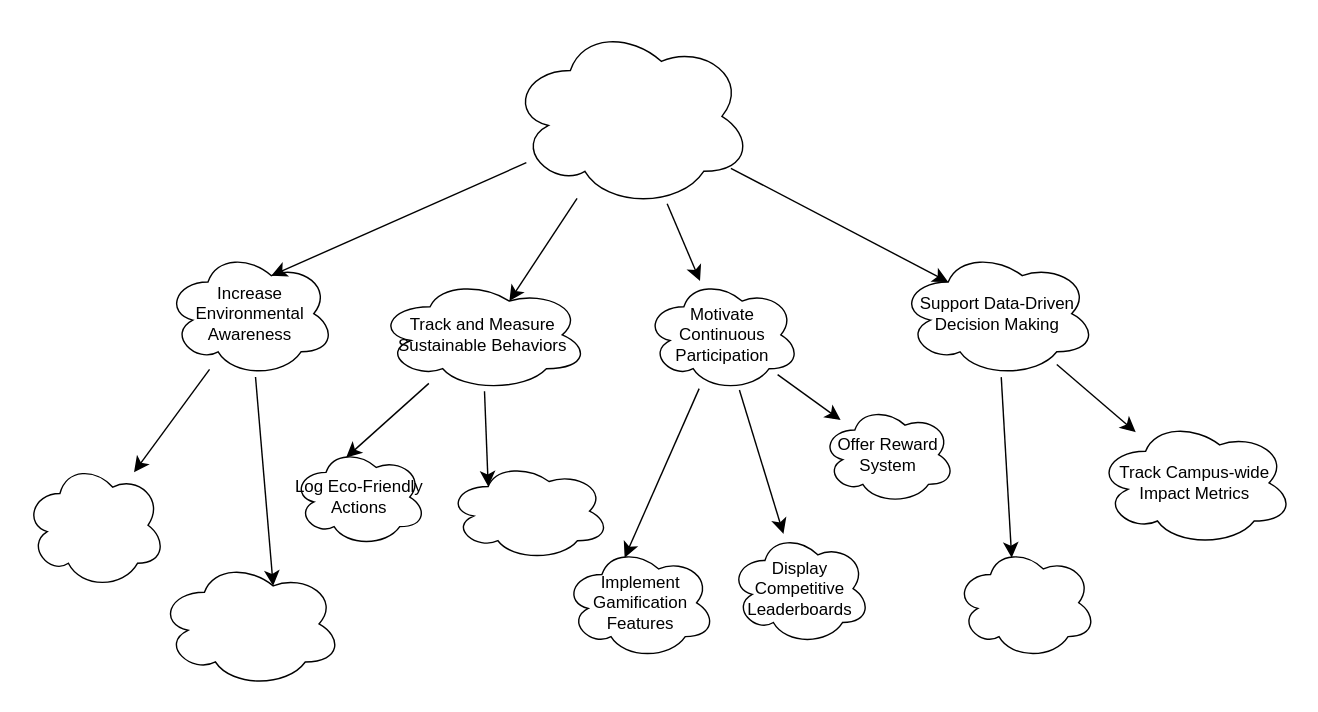
This 1318x712 diagram has some shape labels left out. Here are the shapes that lost their labels. From the top down, the box of each, then its label:
(508, 23, 752, 208): Promote Sustainability Engagement at Curtin University
(23, 460, 166, 589): Provide Daily Sustainability Tips
(446, 460, 610, 560): Monitor Personal Progress
(954, 545, 1096, 659): Generate Analytics and Reports
(157, 559, 342, 687): Enable Community Engagement Through Events
